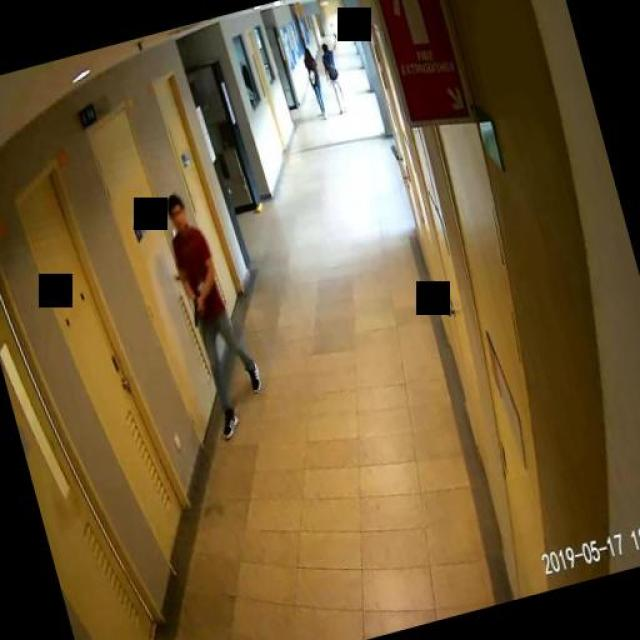gun: (186, 294, 205, 326)
